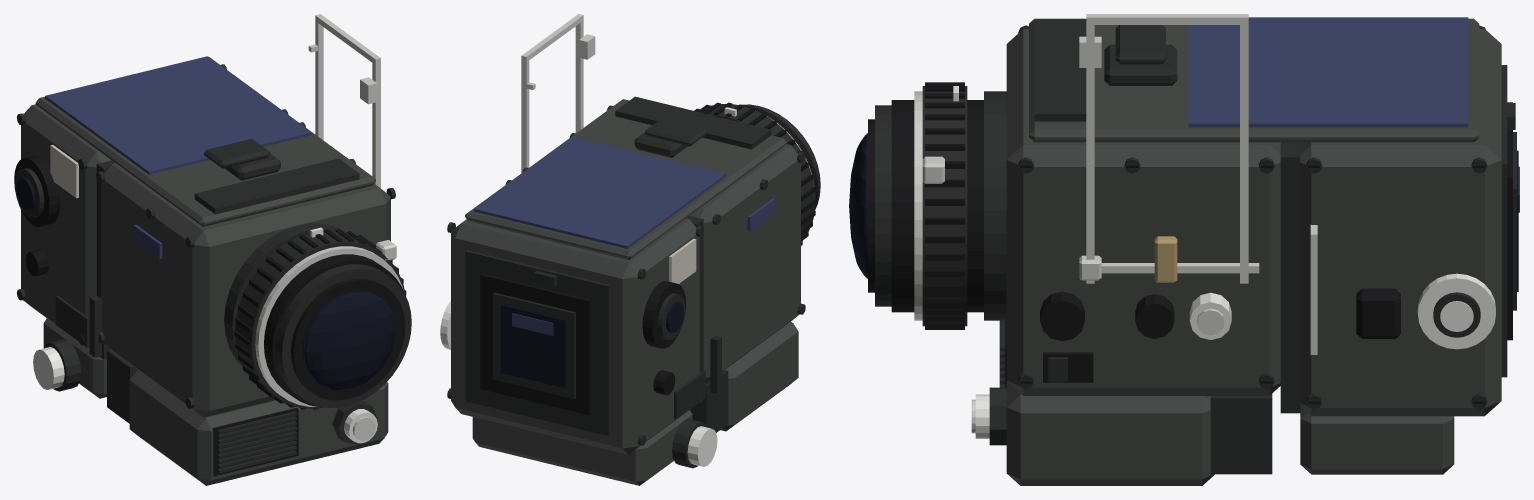
The model's file is surface_camera.glb.
3 views of the same model, side by side, from view 1: azimuth 30°, elevation 25°; view 2: azimuth 150°, elevation 25°; view 3: azimuth 270°, elevation 25° (orthographic). The views are drawn at different scales.
Parts seen in each view (by area): view 1: surface_camera; view 2: surface_camera; view 3: surface_camera.
Boxes of the visible parts, x1,y1,x2,y2 form: surface_camera: (14, 14, 411, 485); surface_camera: (440, 14, 820, 485); surface_camera: (849, 14, 1519, 485).
Bounding box in the file's own units: 0.1335 × 0.1915 × 0.2398.
